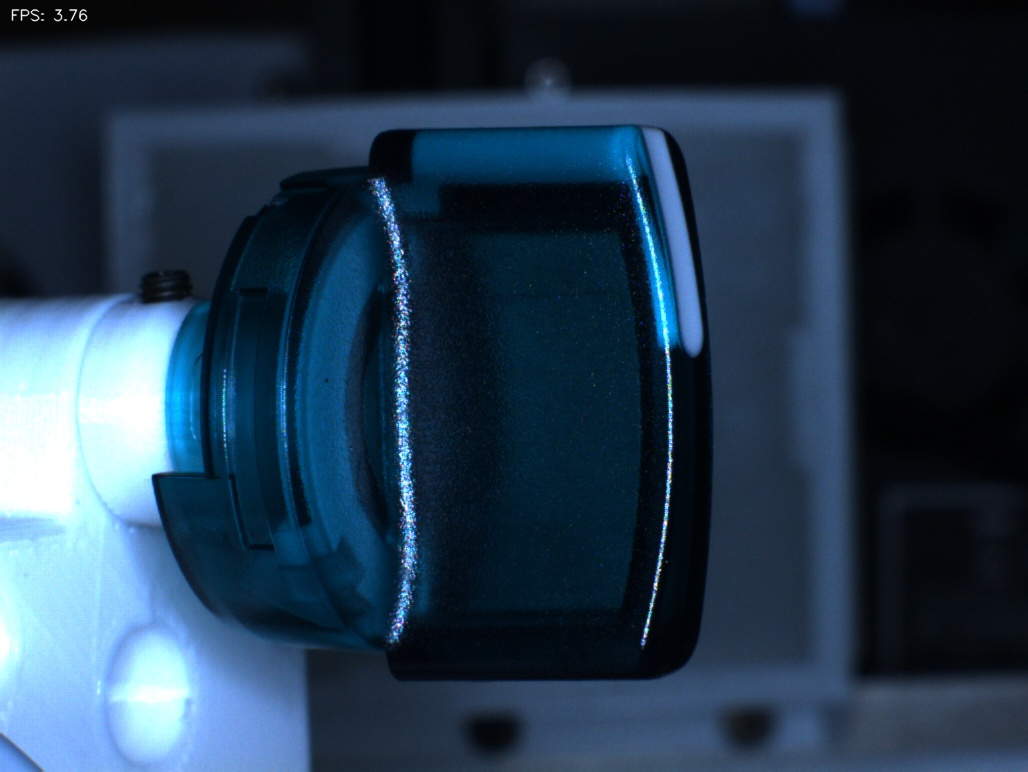PointNoir: (287, 333, 372, 418)
